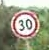limite 30: (9, 9, 40, 39)
